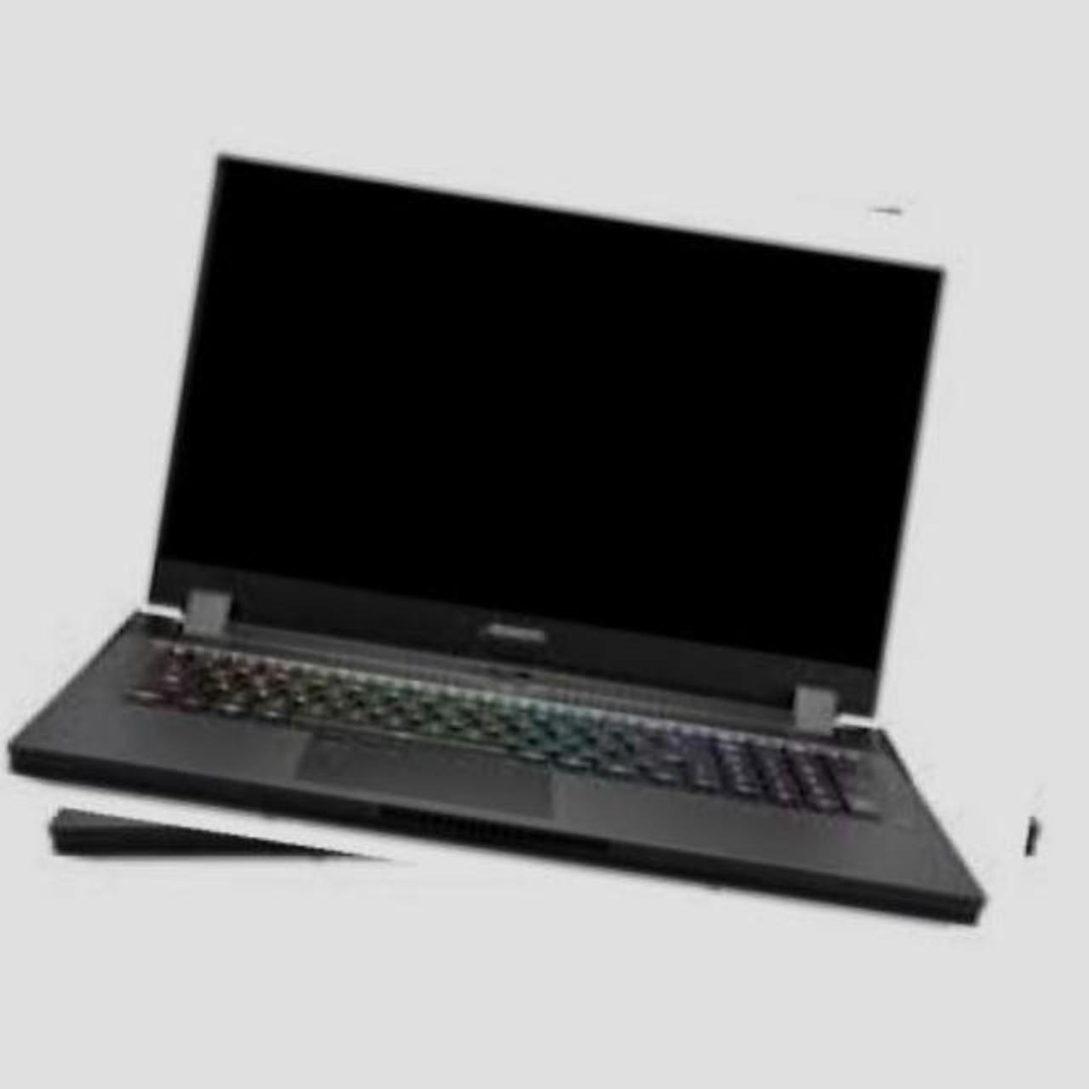laptop: (18, 128, 1088, 917)
